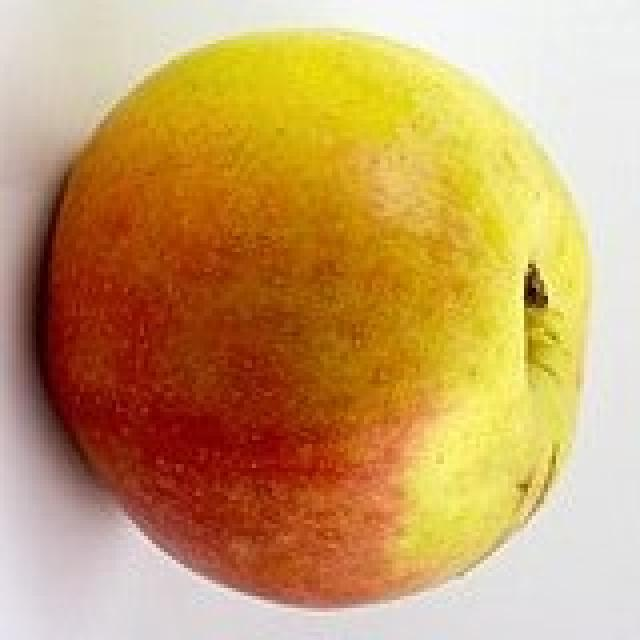75-_ripeness: (33, 23, 612, 611)
